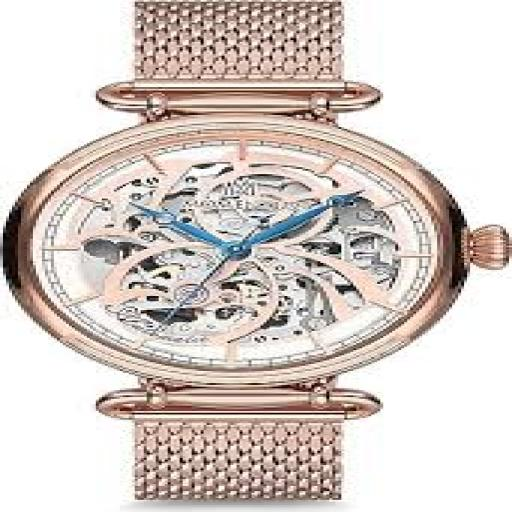KolSaati: (9, 16, 512, 510)
